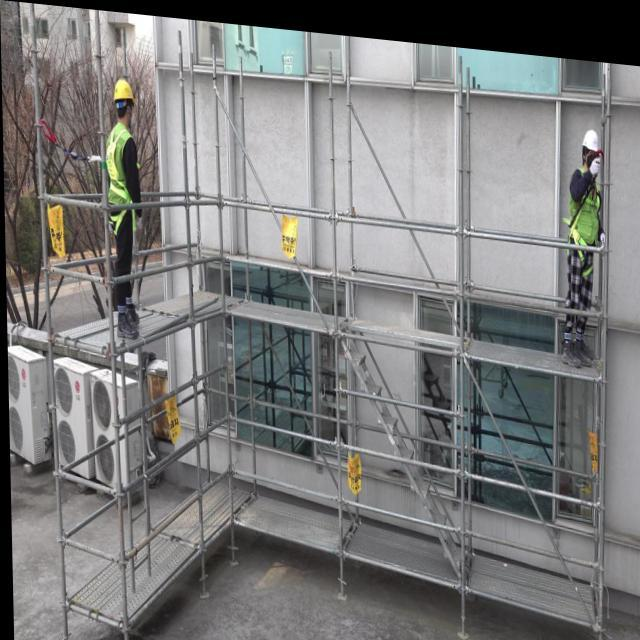belt: (106, 119, 136, 234), (568, 153, 598, 265)
